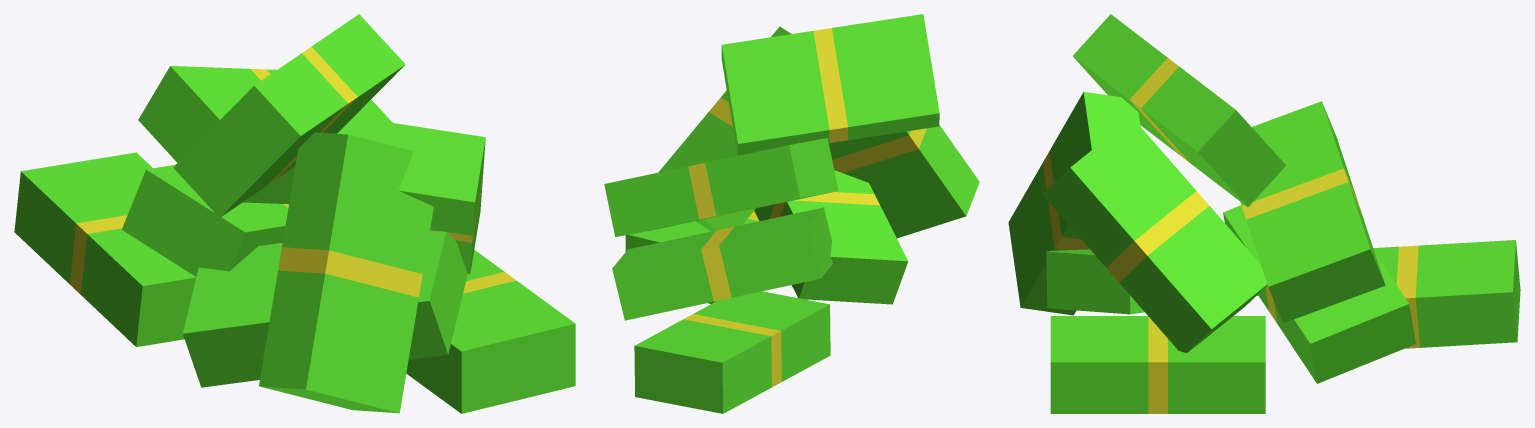
Rendered from Money.fbx.
3 renders of one model, left to right at view 1: azimuth 30°, elevation 25°; view 2: azimuth 150°, elevation 25°; view 3: azimuth 270°, elevation 25°, orthographic. The views are drawn at different scales.
Parts seen in each view (by area): view 1: Money; view 2: Money; view 3: Money.
Part boxes in pixels (x1,y1,x2,y2): Money: (14,14,575,413); Money: (604,14,979,413); Money: (1008,14,1520,413).
Size of the model in its own units: 26.01 by 26.13 by 41.16.
